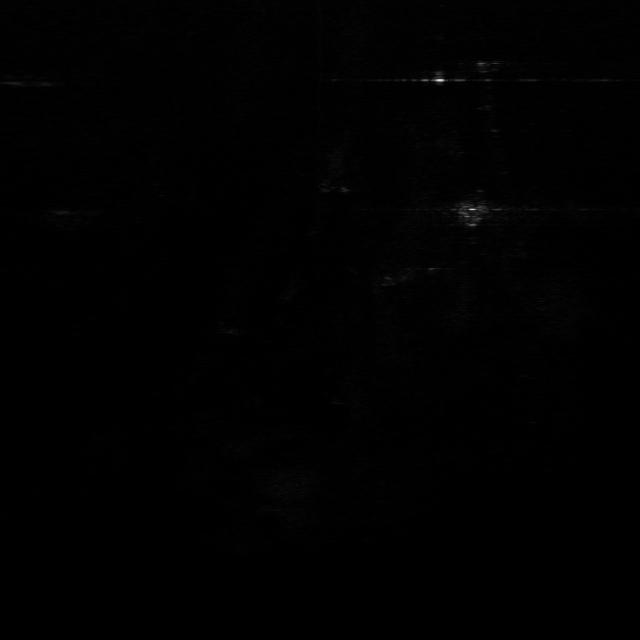rov: (454, 203, 490, 229)
